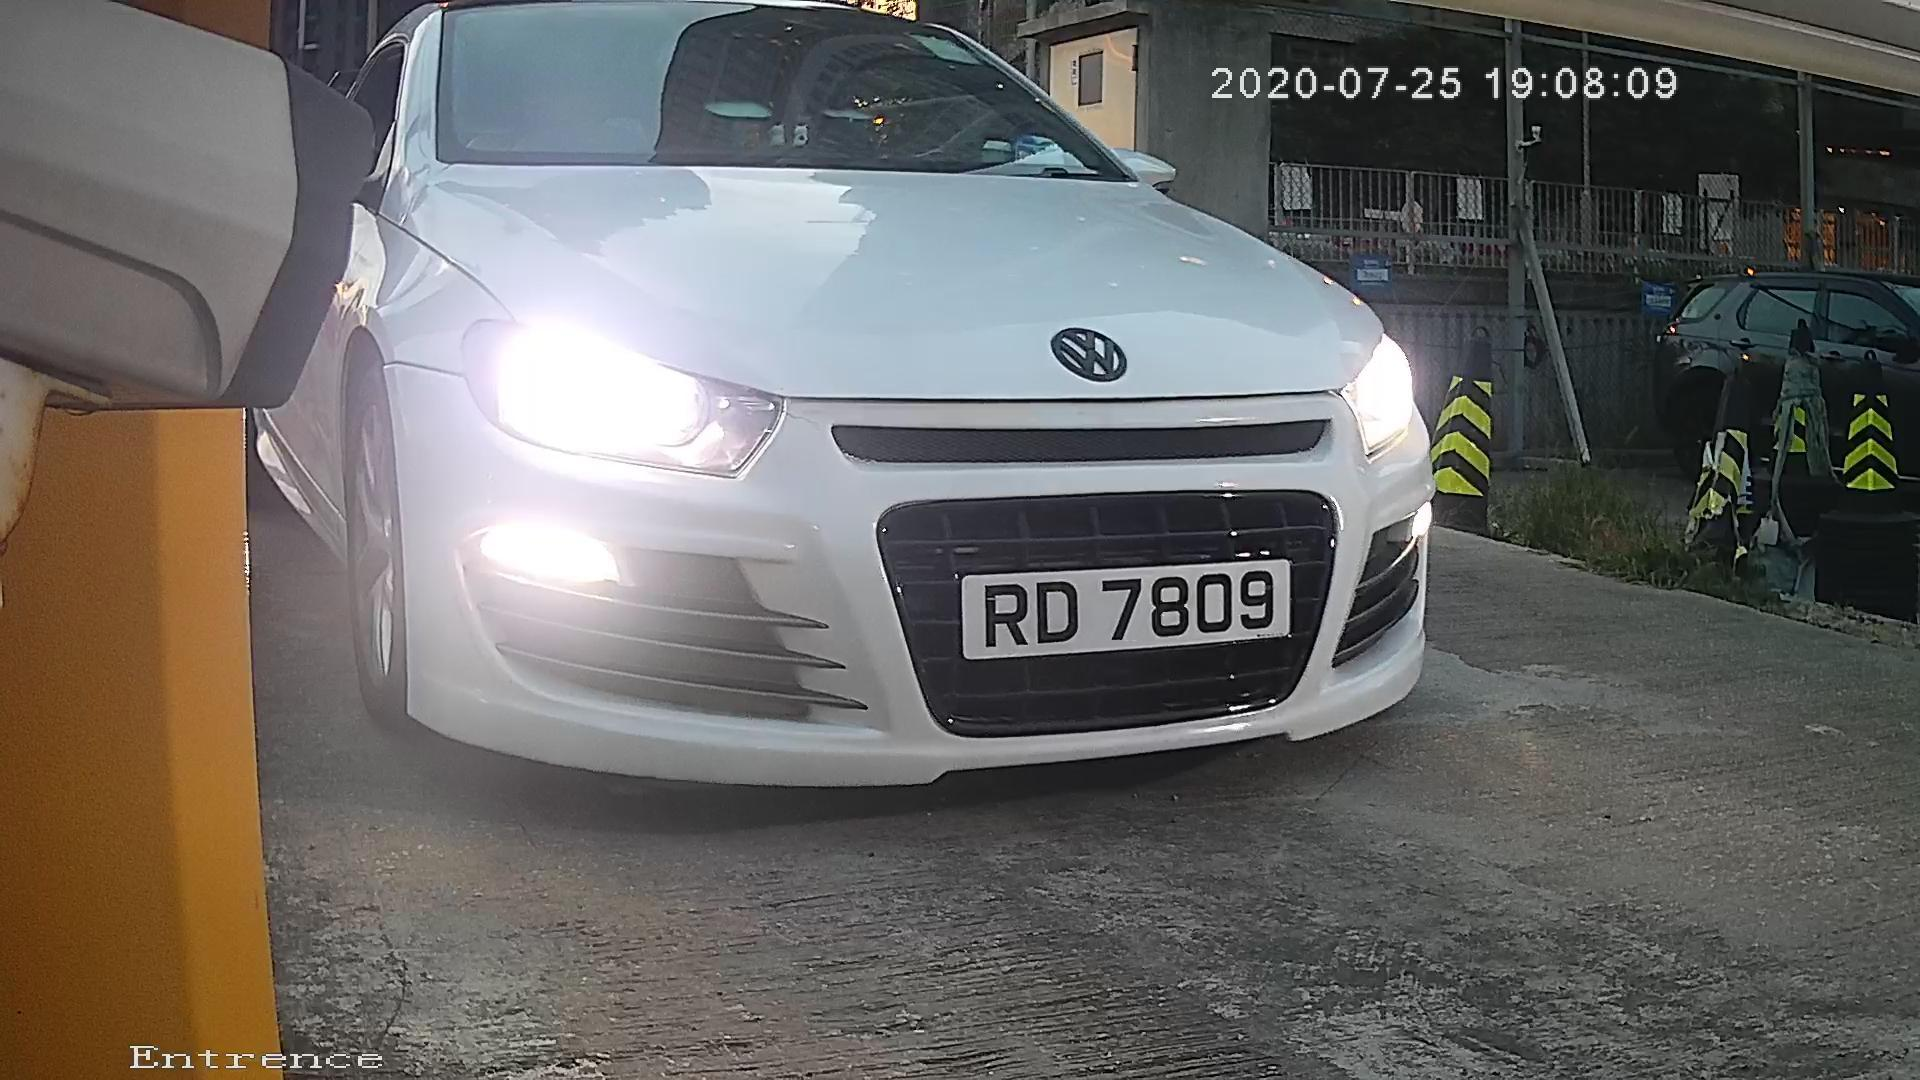privatecar: (318, 5, 1509, 815)
